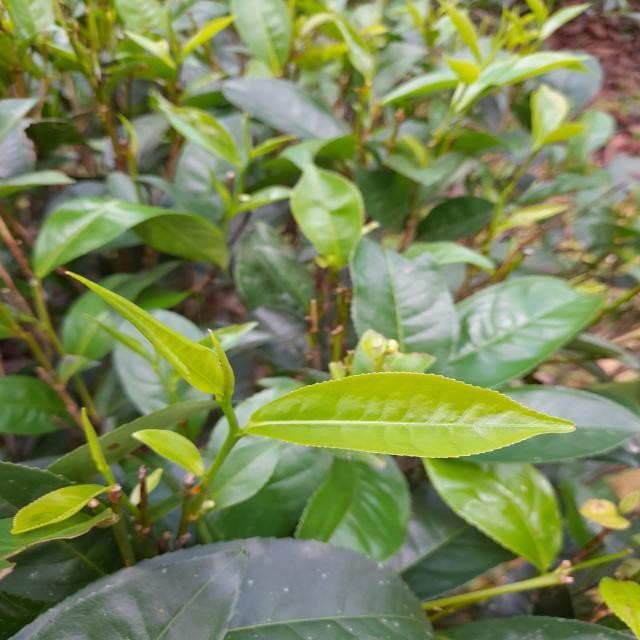Stem: (213, 439, 237, 464), (521, 150, 536, 168), (175, 63, 185, 80), (236, 173, 244, 191)
